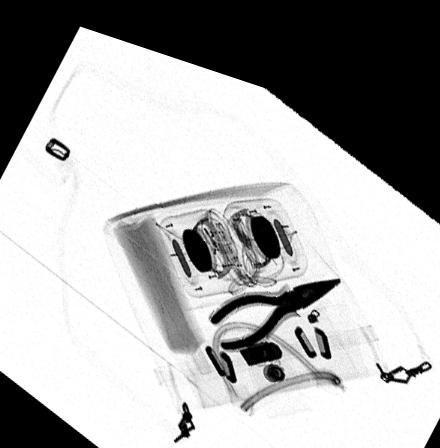Pliers: (207, 254, 344, 334)
